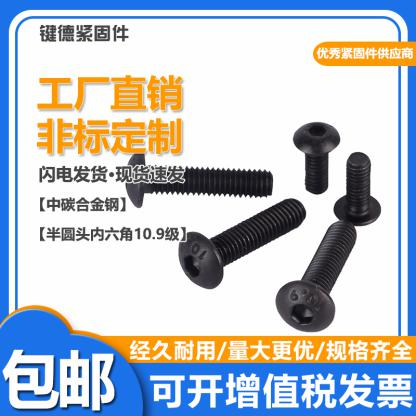FOD: (176, 195, 307, 292), (271, 217, 359, 334), (120, 148, 274, 212), (332, 149, 384, 226), (289, 121, 342, 195)
